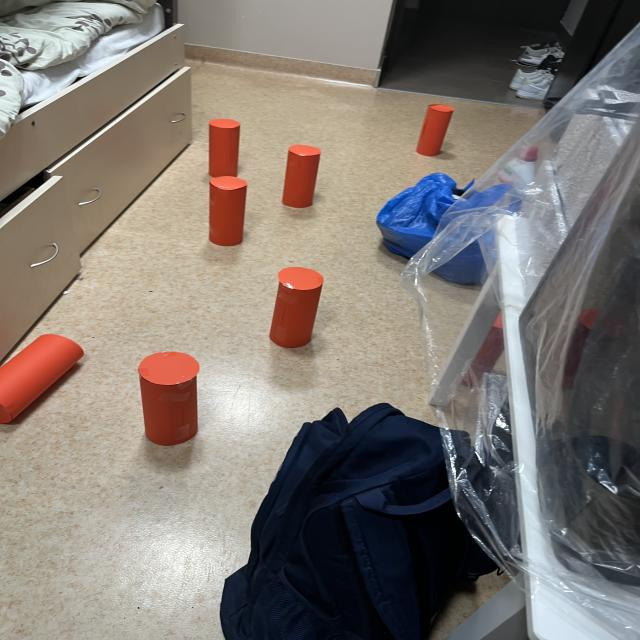przeszkoda: (0, 334, 84, 423), (138, 352, 199, 446), (270, 267, 323, 348), (209, 176, 247, 246), (282, 145, 320, 208), (416, 105, 453, 156), (209, 119, 240, 177)
